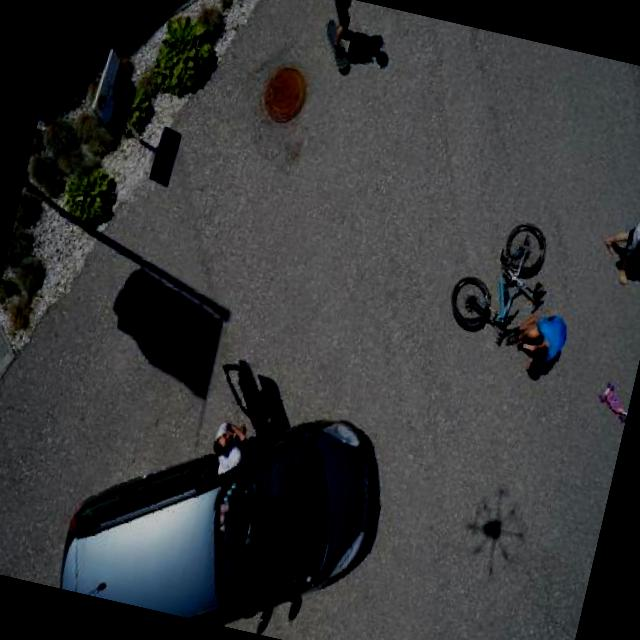Person: (491, 302, 576, 384), (589, 181, 640, 296), (192, 410, 258, 480)
